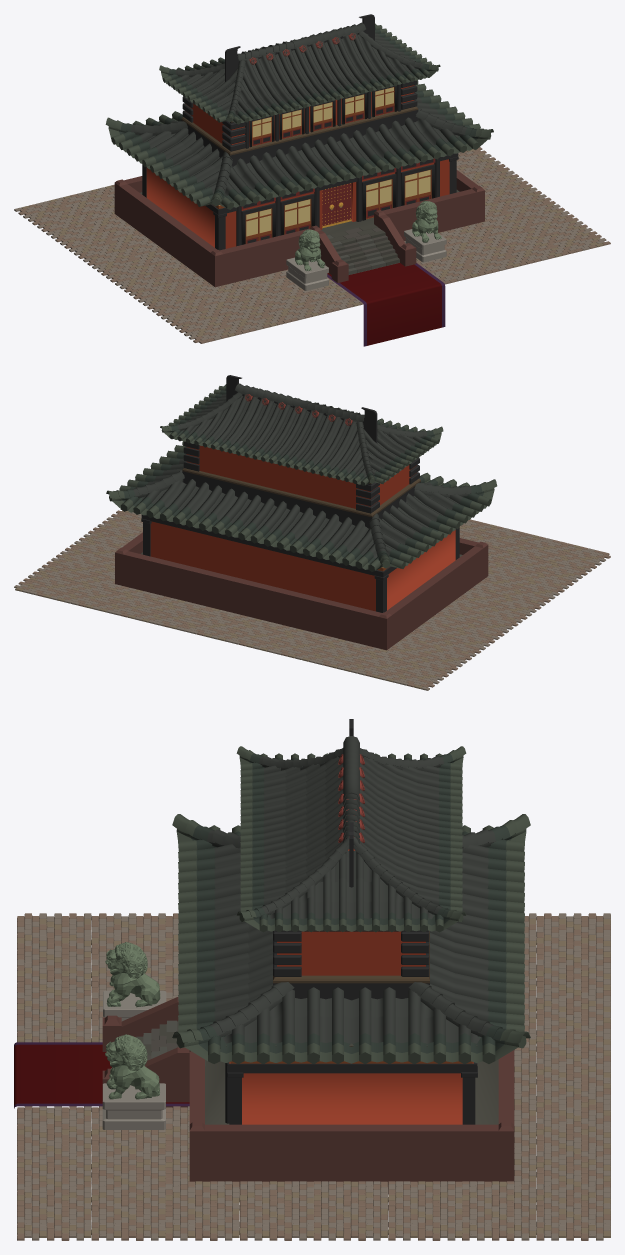
The model's file is thor-and-the-midgard-serpent.fbx.
The picture shows the model from 3 angles, top to bottom: view 1: azimuth 30°, elevation 25°; view 2: azimuth 150°, elevation 25°; view 3: azimuth 270°, elevation 25°; orthographic projection. The views are drawn at different scales.
Parts seen in each view (by area): view 1: MainTempleRoof, BrickFloor.008, MainTemple, MainTempleWindows, BrickFloor.007, LionLeft, LionRight; view 2: MainTemple, MainTempleRoof, BrickFloor.008; view 3: MainTempleRoof, BrickFloor.008, MainTemple, BrickFloor.007, LionRight, LionLeft.
Part boxes in pixels (bbox=[...]): MainTempleRoof: bbox=[105, 14, 493, 209]; BrickFloor.008: bbox=[14, 147, 610, 343]; MainTemple: bbox=[114, 80, 484, 287]; MainTempleWindows: bbox=[241, 85, 434, 244]; BrickFloor.007: bbox=[327, 263, 445, 346]; LionLeft: bbox=[286, 229, 328, 290]; LionRight: bbox=[404, 201, 446, 262]; MainTemple: bbox=[115, 441, 488, 650]; MainTempleRoof: bbox=[106, 375, 497, 571]; BrickFloor.008: bbox=[14, 509, 610, 690]; MainTempleRoof: bbox=[172, 719, 530, 1064]; BrickFloor.008: bbox=[17, 913, 610, 1240]; MainTemple: bbox=[102, 849, 514, 1188]; BrickFloor.007: bbox=[14, 1042, 189, 1108]; LionRight: bbox=[102, 1034, 165, 1129]; LionLeft: bbox=[103, 942, 166, 1021].
Size of the model in its own units: 3086 by 1627 by 2389.
